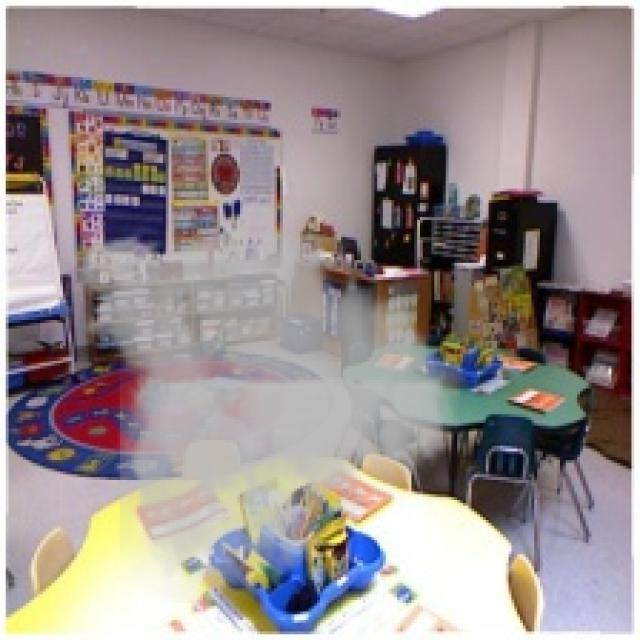smoke: (54, 208, 480, 603)
